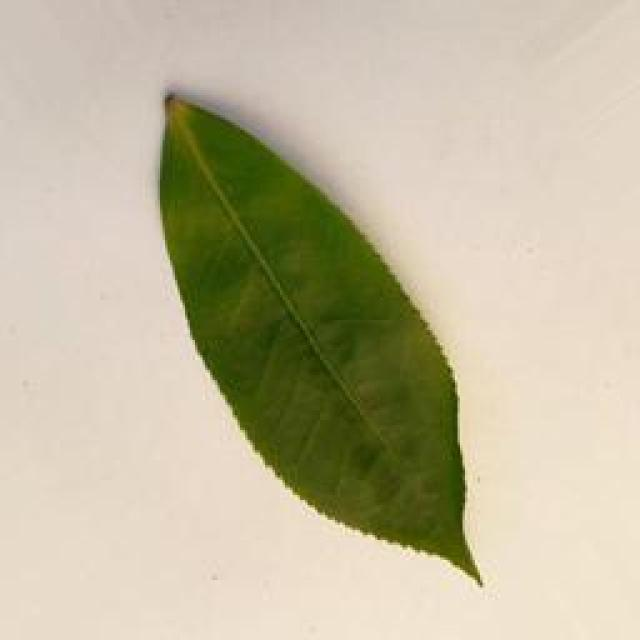Healthy: (145, 66, 501, 605)
